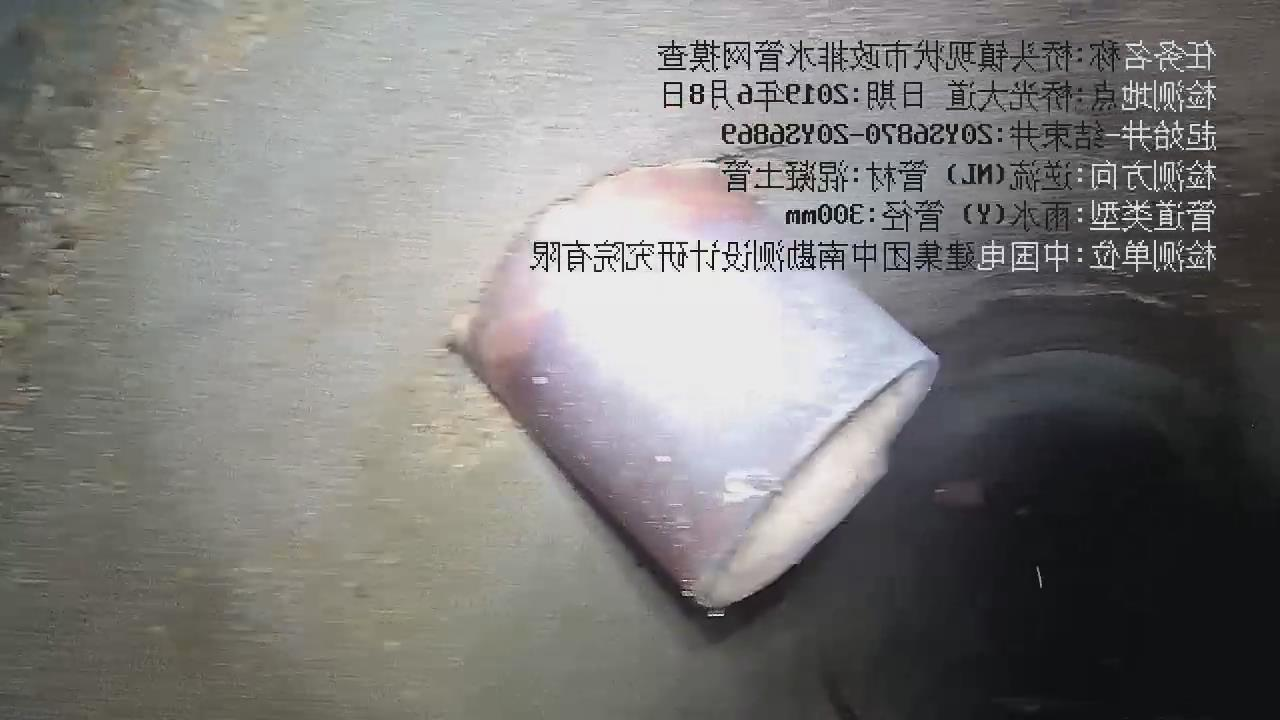ZGAJ: (450, 161, 939, 616)
